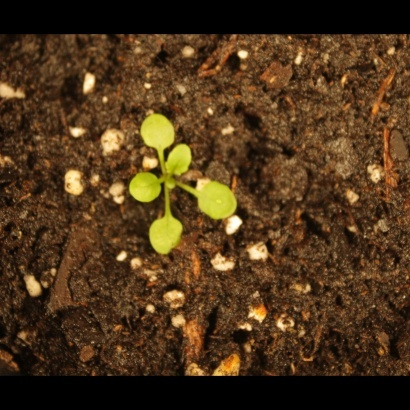leaf: (191, 179, 241, 223), (143, 214, 187, 259), (137, 111, 178, 150), (126, 166, 162, 206), (164, 143, 195, 179)
